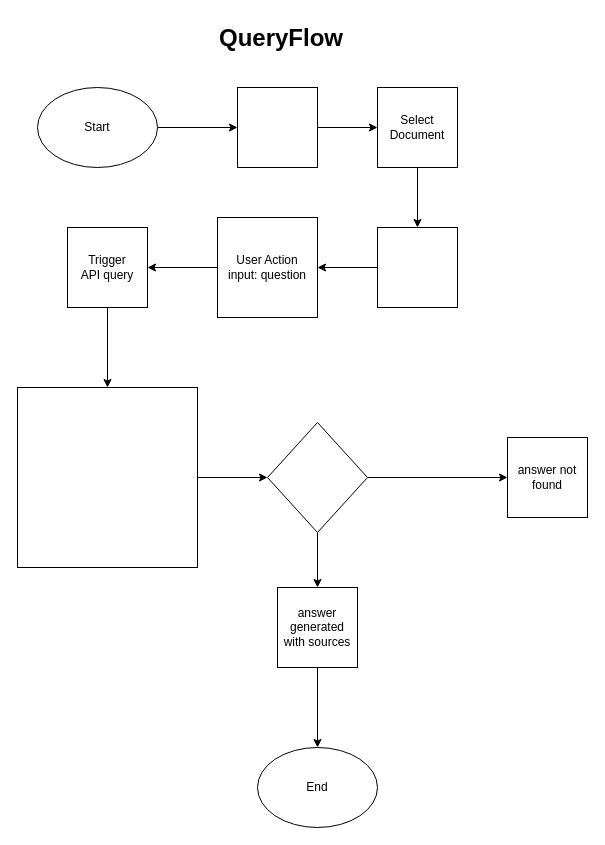
The diagram is 605 pixels wide and 845 high, and some of its shapes have lost their labels. Each missing label, with the centre of its shape:
Ai-service - embedding vector - find related chunk - create prompt - LLM call: the point at 107,477
Chat Interface: the point at 417,267
Dashboard: the point at 277,127
if have answer ?: the point at 317,477
